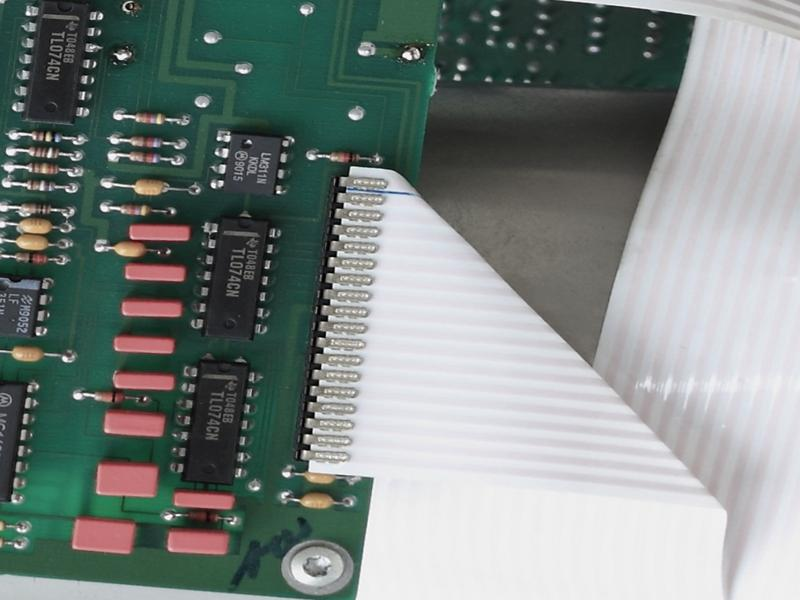Resistor: (87, 386, 135, 408), (19, 158, 68, 179), (121, 146, 169, 166), (323, 147, 371, 166), (116, 199, 157, 221), (20, 141, 64, 161), (13, 198, 56, 218), (122, 132, 171, 149), (7, 249, 56, 266), (21, 128, 71, 144), (128, 109, 171, 127), (18, 176, 61, 194), (177, 509, 227, 524)
